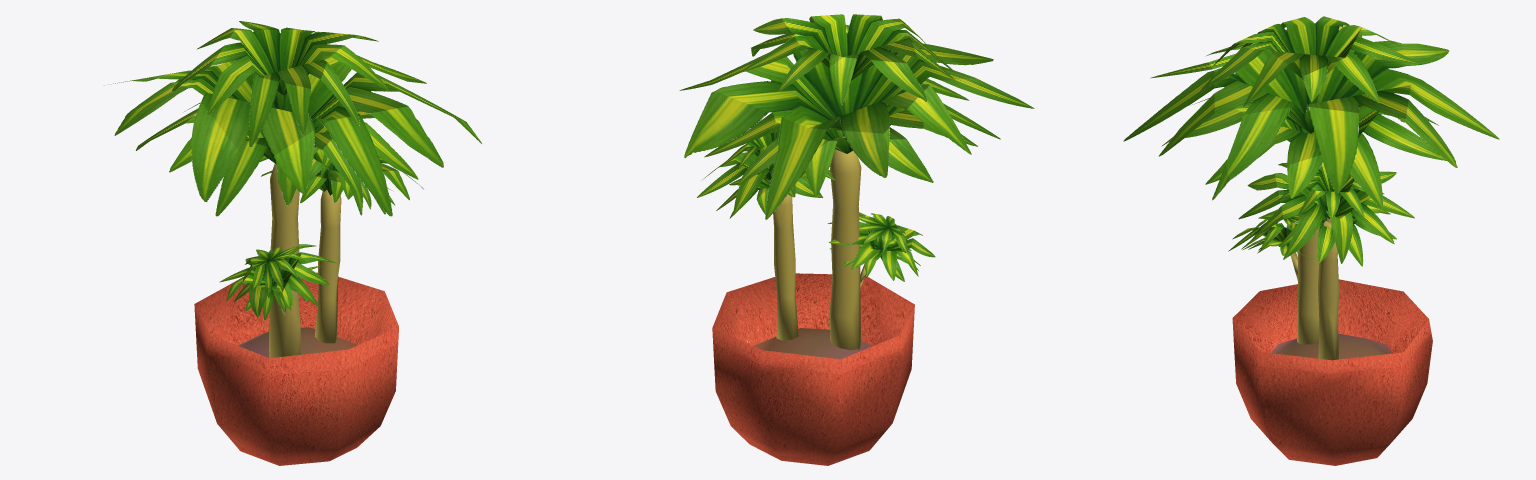
The model's file is plant_01.glb.
3 views of the same model, side by side, from view 1: azimuth 30°, elevation 25°; view 2: azimuth 150°, elevation 25°; view 3: azimuth 270°, elevation 25° (orthographic). The views are drawn at different scales.
Visible parts, largest first — view 1: Plant_01; view 2: Plant_01; view 3: Plant_01.
Boxes of the visible parts, x1=… form: Plant_01: x1=109, y1=21, x2=481, y2=465; Plant_01: x1=679, y1=14, x2=1034, y2=465; Plant_01: x1=1123, y1=16, x2=1499, y2=465.
Size of what is drawn, in the model's own units: 2.4 by 2.66 by 2.6.
4 materials, 4 textured.
